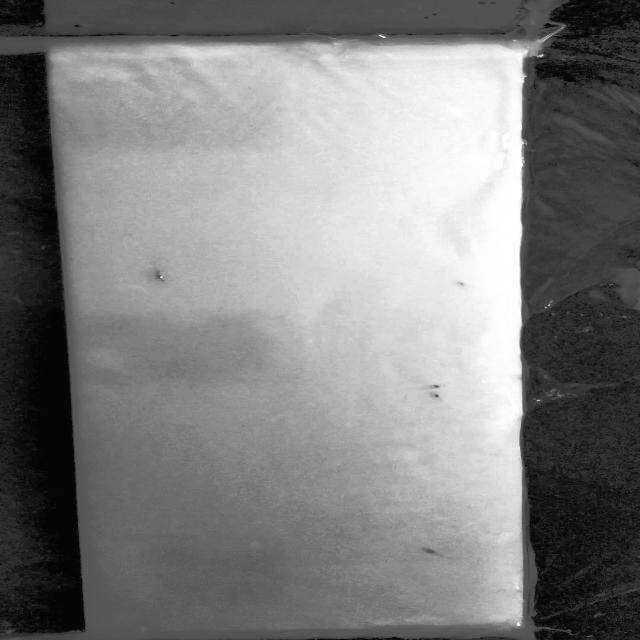shrimp: (419, 544, 450, 558), (149, 264, 174, 281), (418, 393, 448, 399), (455, 278, 473, 288), (419, 384, 443, 389)
